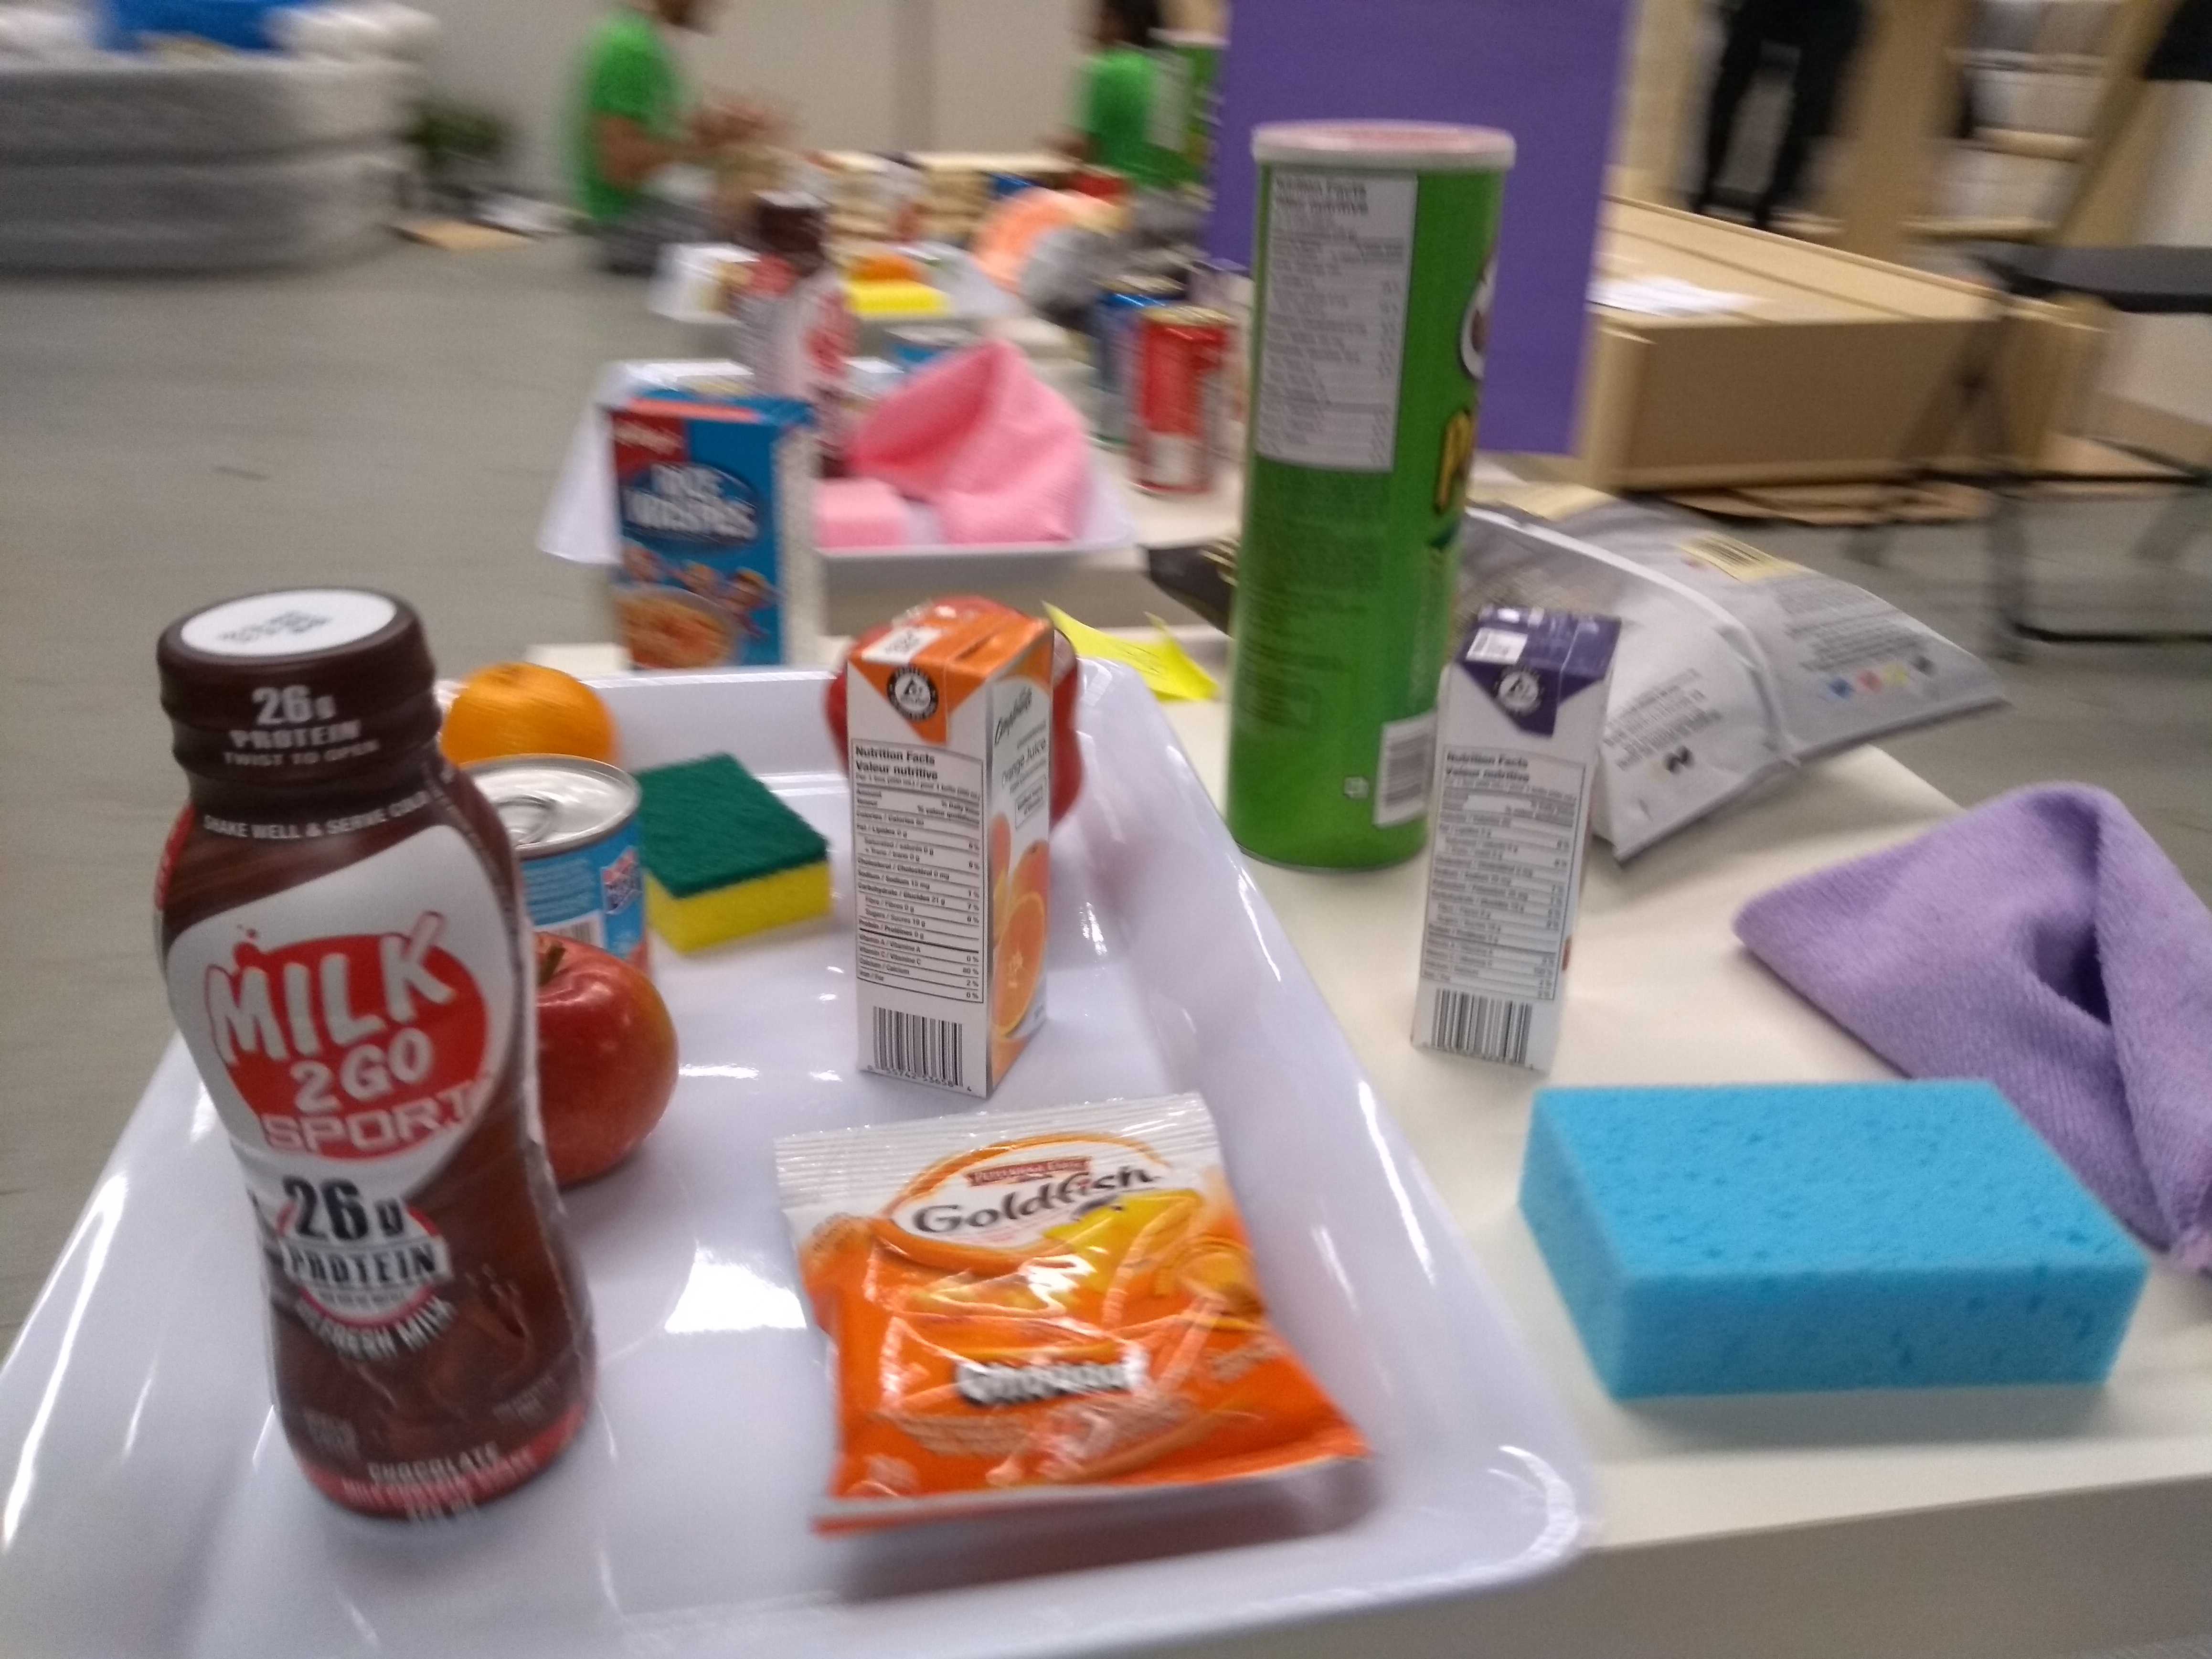chocolate_drink: (122, 579, 611, 1556)
crackers: (768, 1077, 1385, 1570)
grape_juice: (1400, 592, 1630, 1080)
orange_juice: (833, 584, 1069, 1108)
pringles: (1204, 103, 1527, 887)
scrubby: (624, 746, 845, 965)
sponge_opl: (1510, 1066, 2151, 1410)
